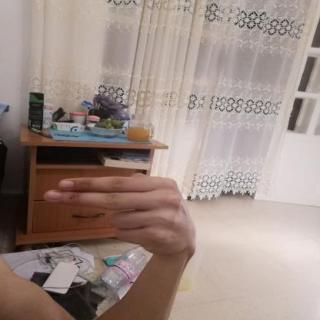AYN: (35, 170, 204, 260)
